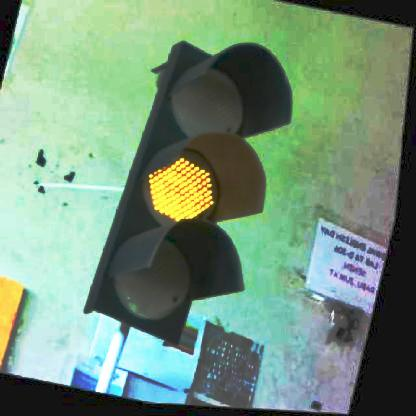Traffic Light -Yellow-: (88, 25, 312, 356)
